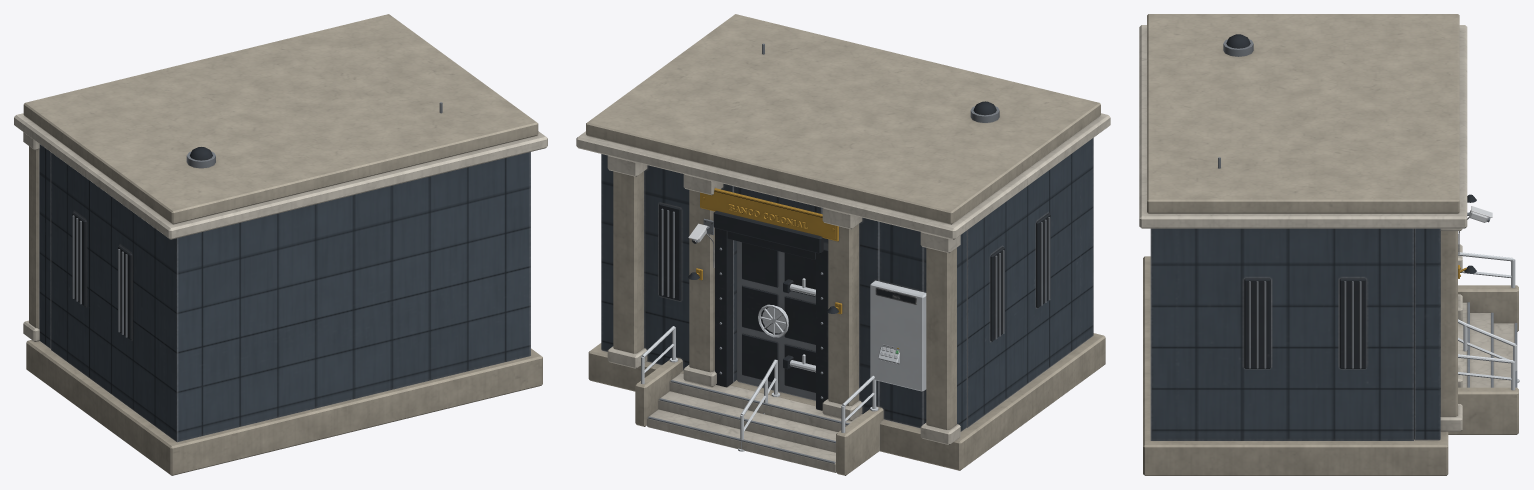
Rendered from banco_galactico.fbx.
3 views of the same model, side by side, from view 1: azimuth 30°, elevation 25°; view 2: azimuth 150°, elevation 25°; view 3: azimuth 270°, elevation 25° (orthographic). The views are drawn at different scales.
Visible parts, largest first — view 1: banco_galactico; view 2: banco_galactico, banco_galactico_puerta; view 3: banco_galactico.
Boxes of the visible parts, x1,y1,x2,y2 form: banco_galactico: [14, 14, 547, 475]; banco_galactico: [576, 14, 1110, 475]; banco_galactico_puerta: [737, 241, 815, 400]; banco_galactico: [1139, 14, 1519, 475].
Bounding box in the file's own units: 12 × 8.37 × 9.97.
Materials: 4 (1 with a texture image).
